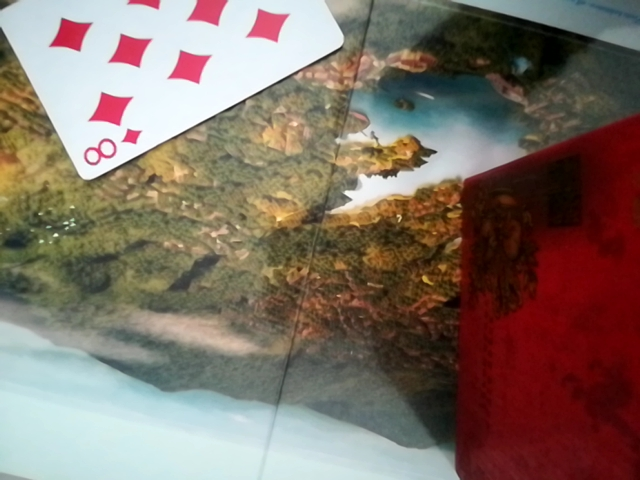fk 8: (4, 0, 347, 182)
